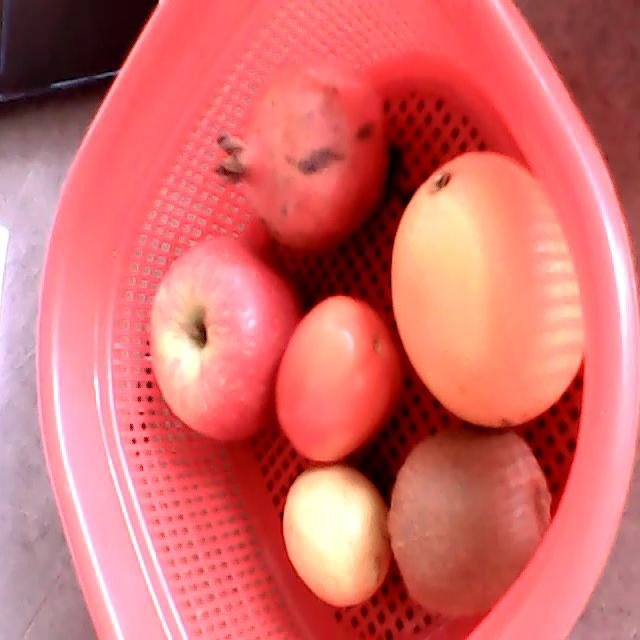apple: (149, 237, 299, 445)
kiwi: (387, 430, 552, 617)
lemon: (283, 464, 392, 610)
orange: (391, 149, 583, 427)
pomegranate: (214, 56, 387, 256)
tomato: (277, 293, 401, 461)
